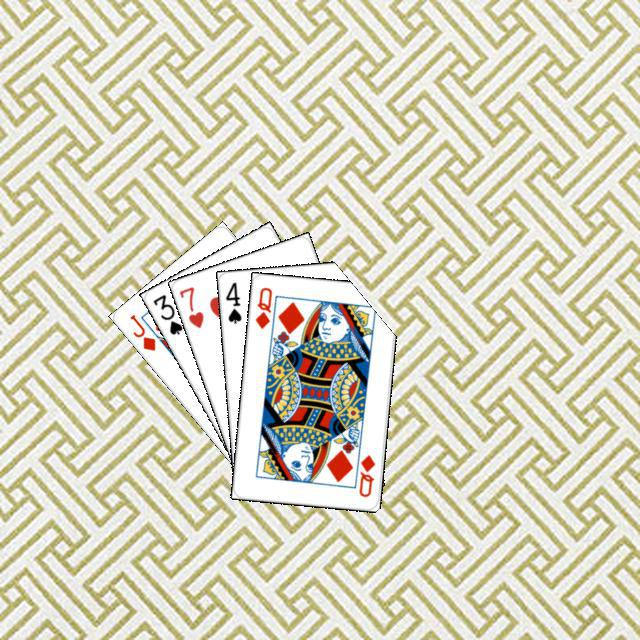3s: (148, 289, 185, 337)
4s: (220, 277, 243, 325)
7h: (174, 282, 205, 330)
Jd: (125, 309, 157, 353)
Qd: (354, 450, 377, 499), (251, 282, 274, 330)
